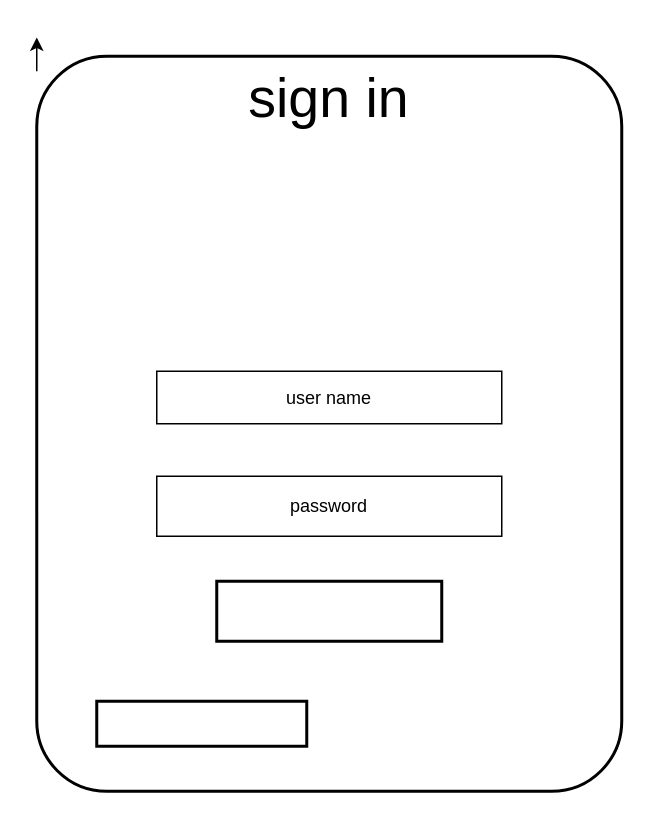
Image size: 650x818. Some labels were removed from this diagram. Each missing label, with the centre of its shape:
"create account" belongs at point (201, 723).
"Login" belongs at point (328, 610).
